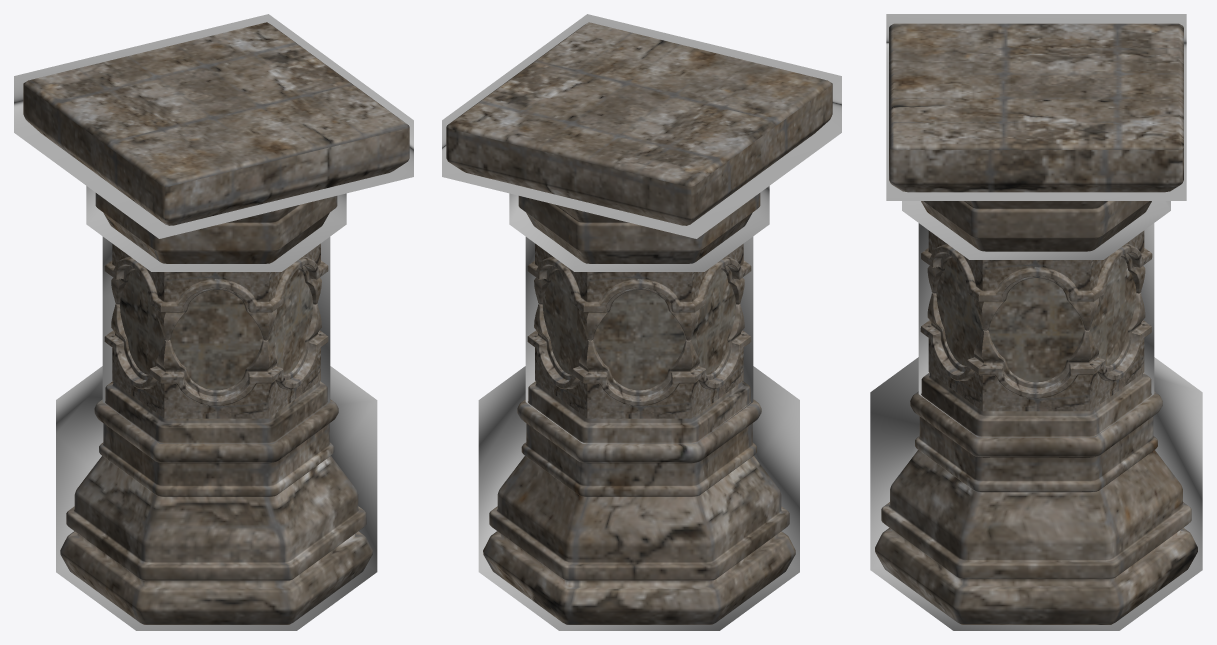
File: SM_Pillar_04a.gltf
3 renders of one model, left to right at view 1: azimuth 30°, elevation 25°; view 2: azimuth 150°, elevation 25°; view 3: azimuth 270°, elevation 25°, orthographic. The views are drawn at different scales.
Parts seen in each view (by area): view 1: SM_Pillar_04a, SM_Pillar_04a_ConvexHulls; view 2: SM_Pillar_04a, SM_Pillar_04a_ConvexHulls; view 3: SM_Pillar_04a, SM_Pillar_04a_ConvexHulls.
Boxes of the visible parts, x1=… form: SM_Pillar_04a: x1=23, y1=22, x2=409, y2=624; SM_Pillar_04a_ConvexHulls: x1=14, y1=14, x2=413, y2=630; SM_Pillar_04a: x1=446, y1=22, x2=832, y2=624; SM_Pillar_04a_ConvexHulls: x1=442, y1=14, x2=841, y2=630; SM_Pillar_04a: x1=875, y1=23, x2=1197, y2=624; SM_Pillar_04a_ConvexHulls: x1=870, y1=14, x2=1202, y2=630.
Size of the model in its own units: 2.57 by 4.58 by 2.81.
3 materials, 2 textured.
